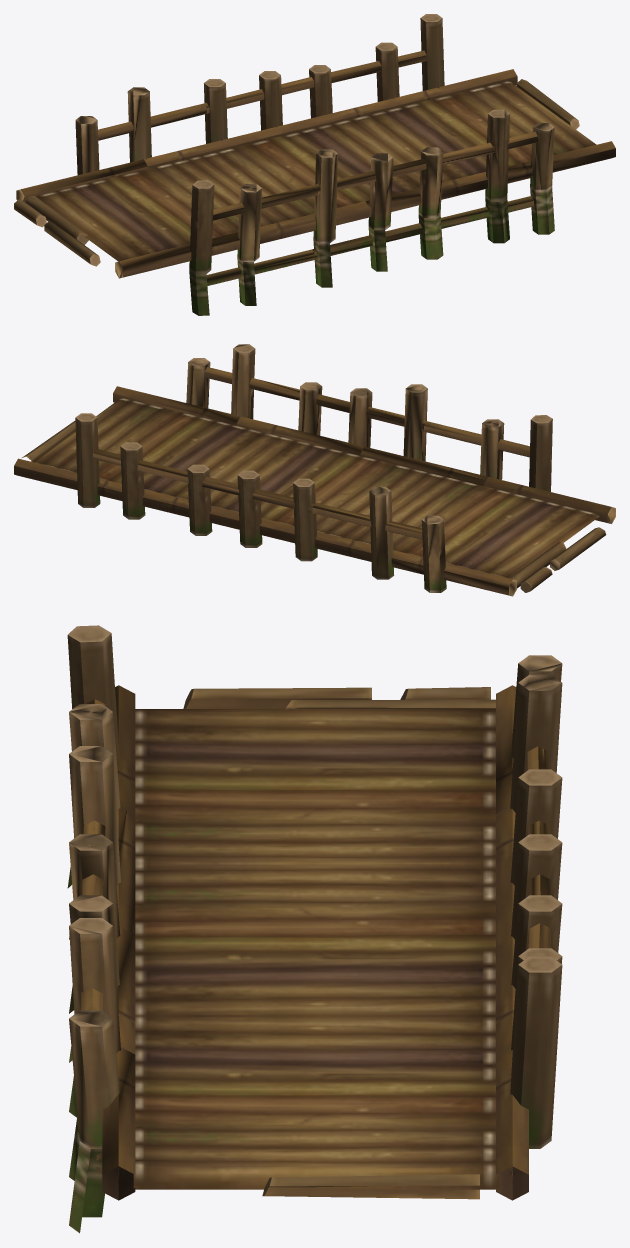
File: Stage_ZhuCheng_MuQiao.FBX
The picture shows the model from 3 angles, top to bottom: view 1: azimuth 30°, elevation 25°; view 2: azimuth 150°, elevation 25°; view 3: azimuth 270°, elevation 25°; orthographic projection. The views are drawn at different scales.
Visible parts, largest first — view 1: Stage_ZhuCheng_MuQiao; view 2: Stage_ZhuCheng_MuQiao; view 3: Stage_ZhuCheng_MuQiao.
Boxes of the visible parts, x1,y1,x2,y2 form: Stage_ZhuCheng_MuQiao: (14,14,615,315); Stage_ZhuCheng_MuQiao: (14,344,615,596); Stage_ZhuCheng_MuQiao: (67,625,562,1233).
Bounding box in the file's own units: 300 × 73.38 × 126.
